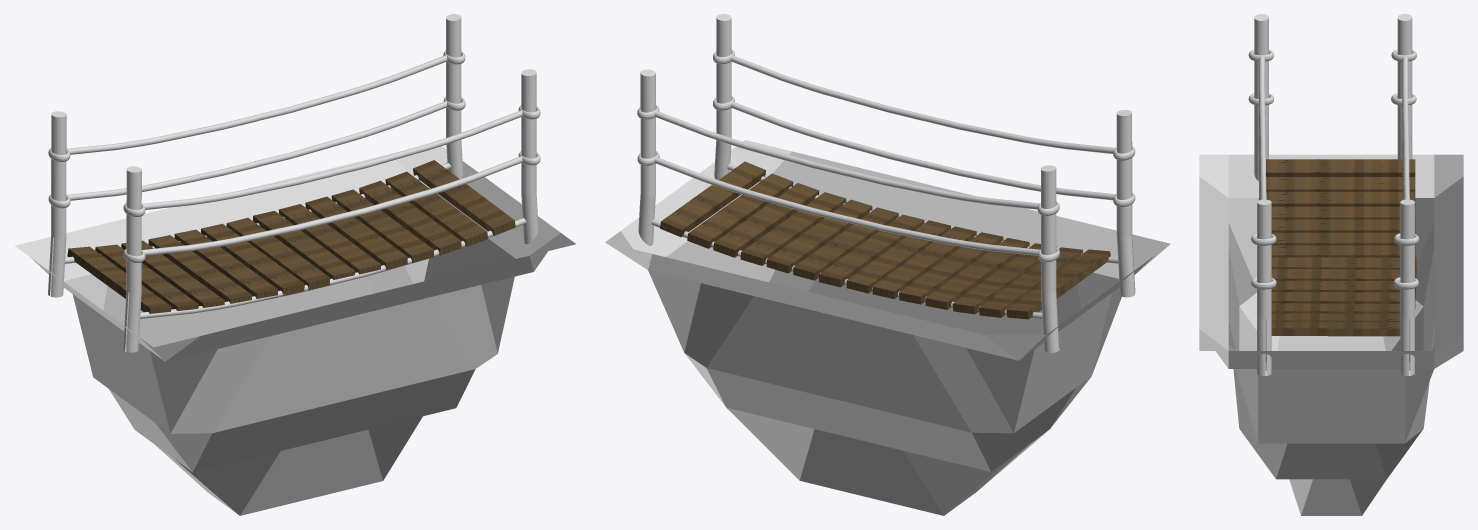
The model's file is BridgeUprightWMaterials.fbx.
3 views of the same model, side by side, from view 1: azimuth 30°, elevation 25°; view 2: azimuth 150°, elevation 25°; view 3: azimuth 270°, elevation 25° (orthographic). The views are drawn at different scales.
Visible parts, largest first — view 1: Plane, Cube, Plane.002, Plane.000; view 2: Plane, Cube, Plane.002, Plane.000; view 3: Plane, Cube, Plane.000, Plane.002.
Boxes of the visible parts, left/top/right/bottom form: Plane: left=15, top=146, right=575, bottom=515; Cube: left=67, top=160, right=515, bottom=313; Plane.002: left=48, top=50, right=540, bottom=318; Plane.000: left=48, top=14, right=538, bottom=352; Plane: left=605, top=140, right=1170, bottom=515; Cube: left=660, top=161, right=1110, bottom=319; Plane.002: left=637, top=50, right=1135, bottom=319; Plane.000: left=638, top=14, right=1135, bottom=352; Plane: left=1199, top=154, right=1463, bottom=515; Cube: left=1266, top=159, right=1416, bottom=336; Plane.000: left=1254, top=14, right=1414, bottom=375; Plane.002: left=1248, top=49, right=1419, bottom=341.
Size of the model in its own units: 1417 by 1257 by 807.
